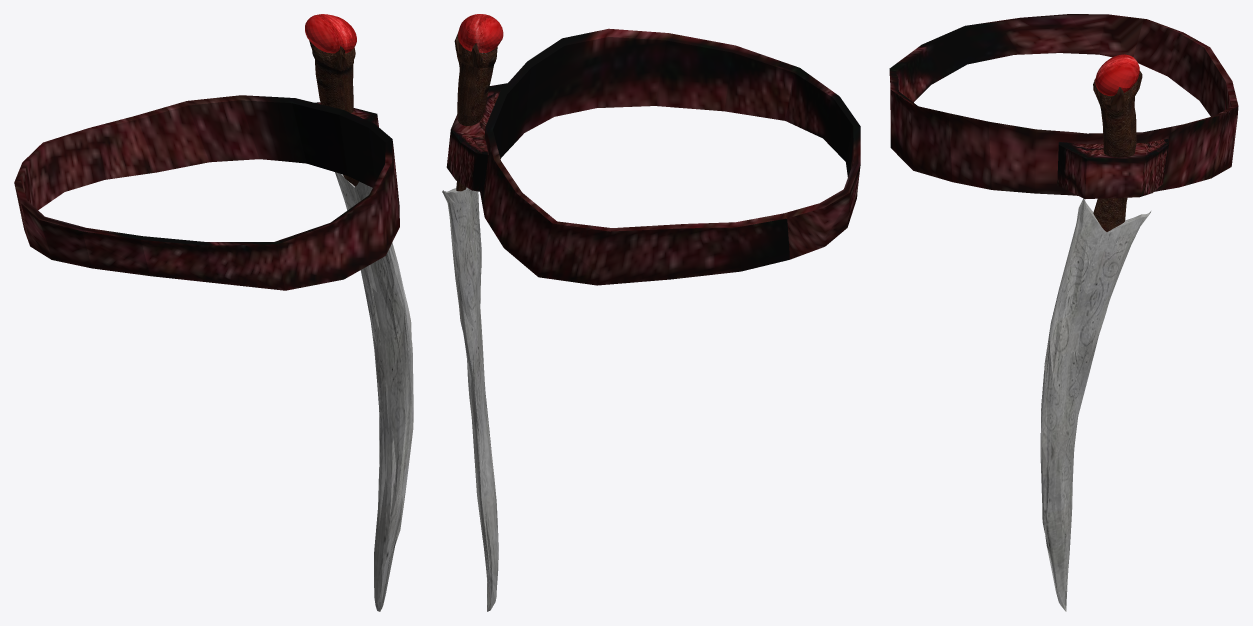
File: mhw_o4saken_dagger.glb
The picture shows the model from 3 angles, left to right: view 1: azimuth 30°, elevation 25°; view 2: azimuth 150°, elevation 25°; view 3: azimuth 270°, elevation 25°; orthographic projection. The views are drawn at different scales.
Parts seen in each view (by area): view 1: mhw_o4saken_dagger; view 2: mhw_o4saken_dagger; view 3: mhw_o4saken_dagger.
Part boxes in pixels (box(x1,y1,x2,y2)): mhw_o4saken_dagger: box(14, 14, 413, 611); mhw_o4saken_dagger: box(442, 14, 860, 611); mhw_o4saken_dagger: box(889, 14, 1238, 611).
Size of the model in its own units: 0.2147 by 0.3288 by 0.1914.
Materials: 1 (1 with a texture image).
